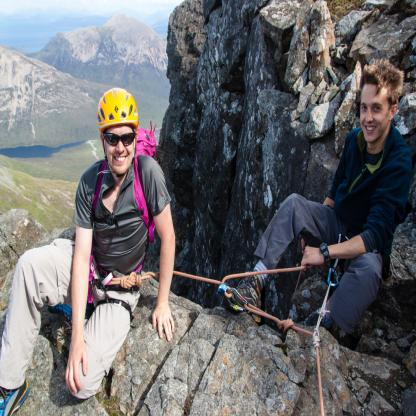Helmet: (94, 81, 136, 179)
